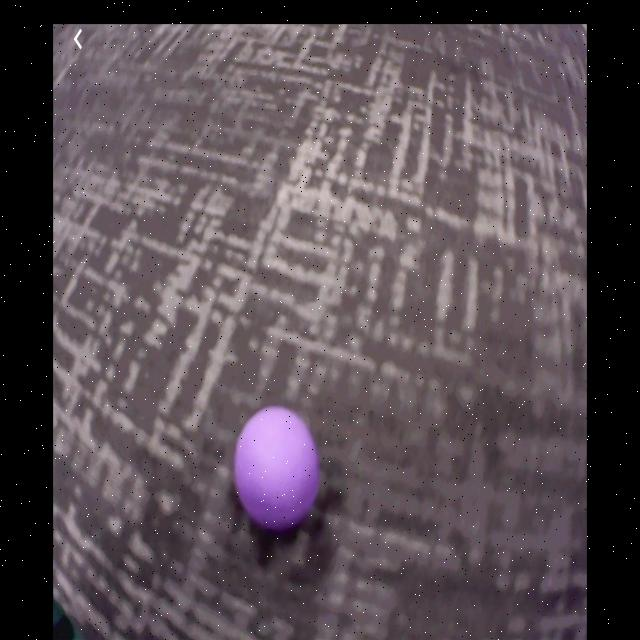ball: (233, 406, 317, 524)
